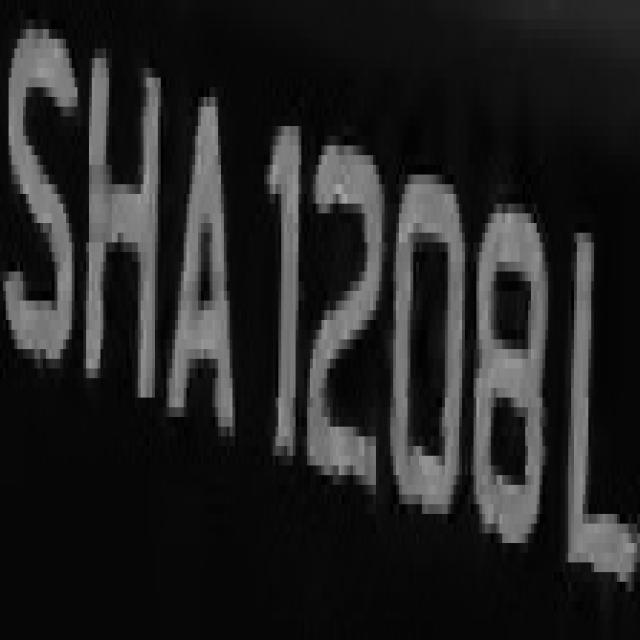0: (379, 136, 468, 543)
1: (267, 97, 307, 485)
2: (304, 97, 385, 504)
8: (468, 175, 557, 562)
A: (158, 78, 238, 466)
H: (78, 29, 160, 427)
L: (554, 204, 640, 611)
S: (3, 39, 83, 378)
